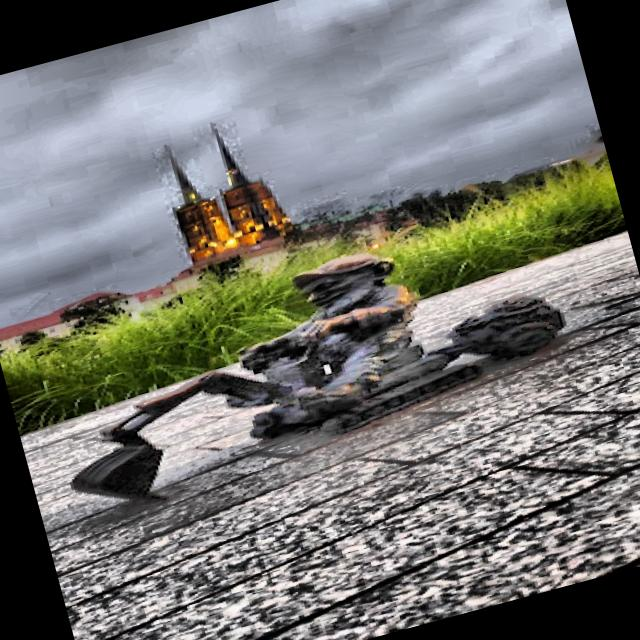Koparkus: (73, 253, 564, 498)
